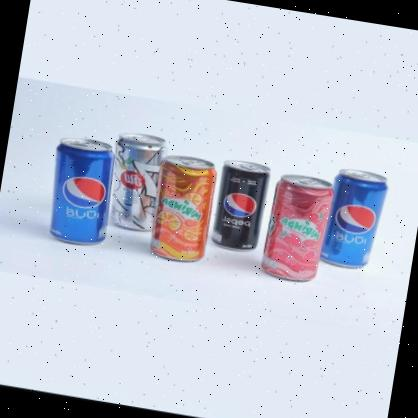can: (42, 133, 115, 251), (146, 152, 220, 266), (264, 174, 338, 285), (318, 166, 390, 274), (208, 155, 274, 257), (104, 131, 167, 234)
